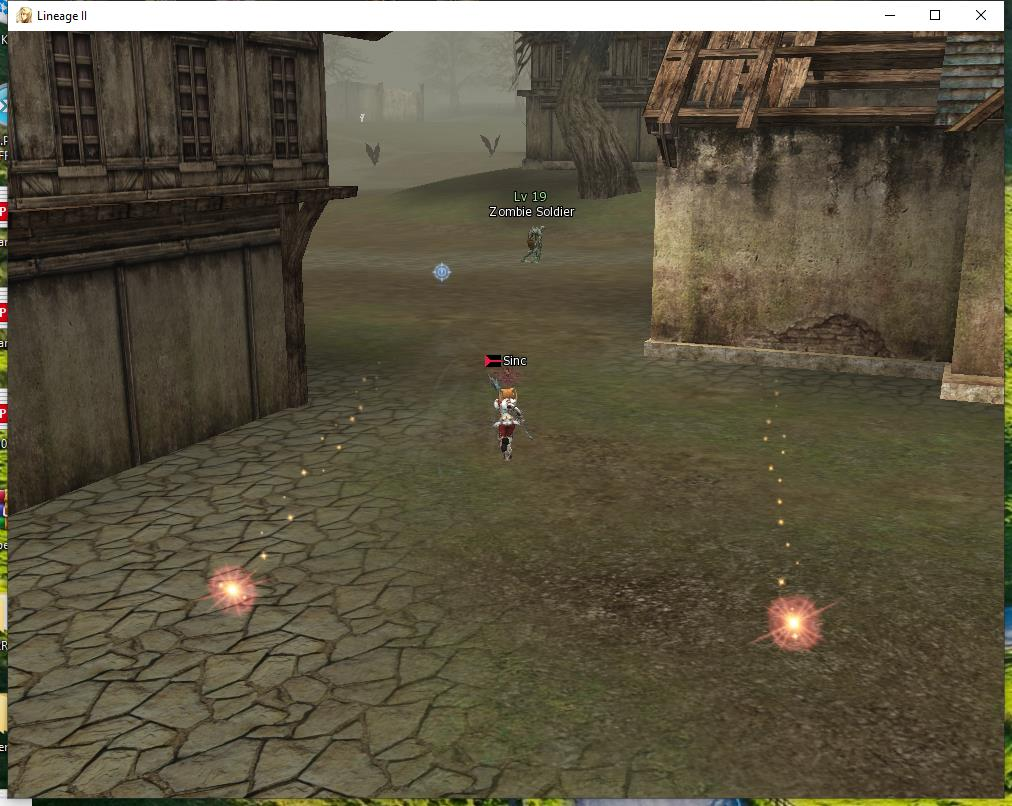monster: (488, 191, 569, 276), (475, 128, 511, 165), (358, 141, 389, 170)
